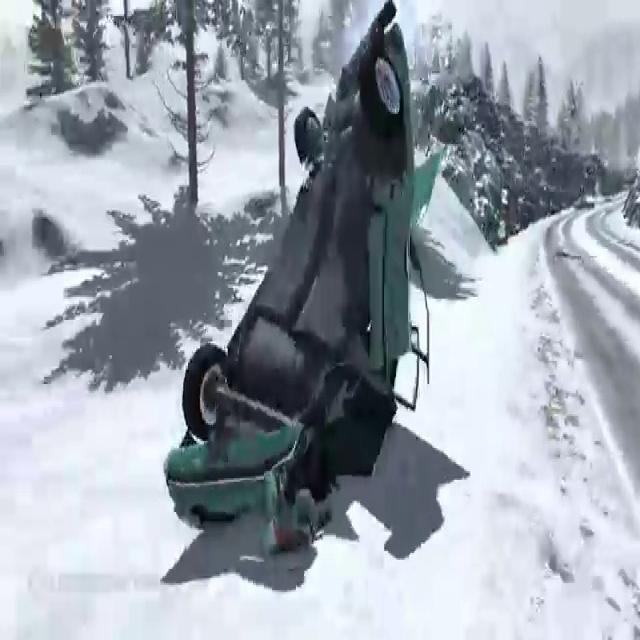severe: (157, 10, 446, 559)
